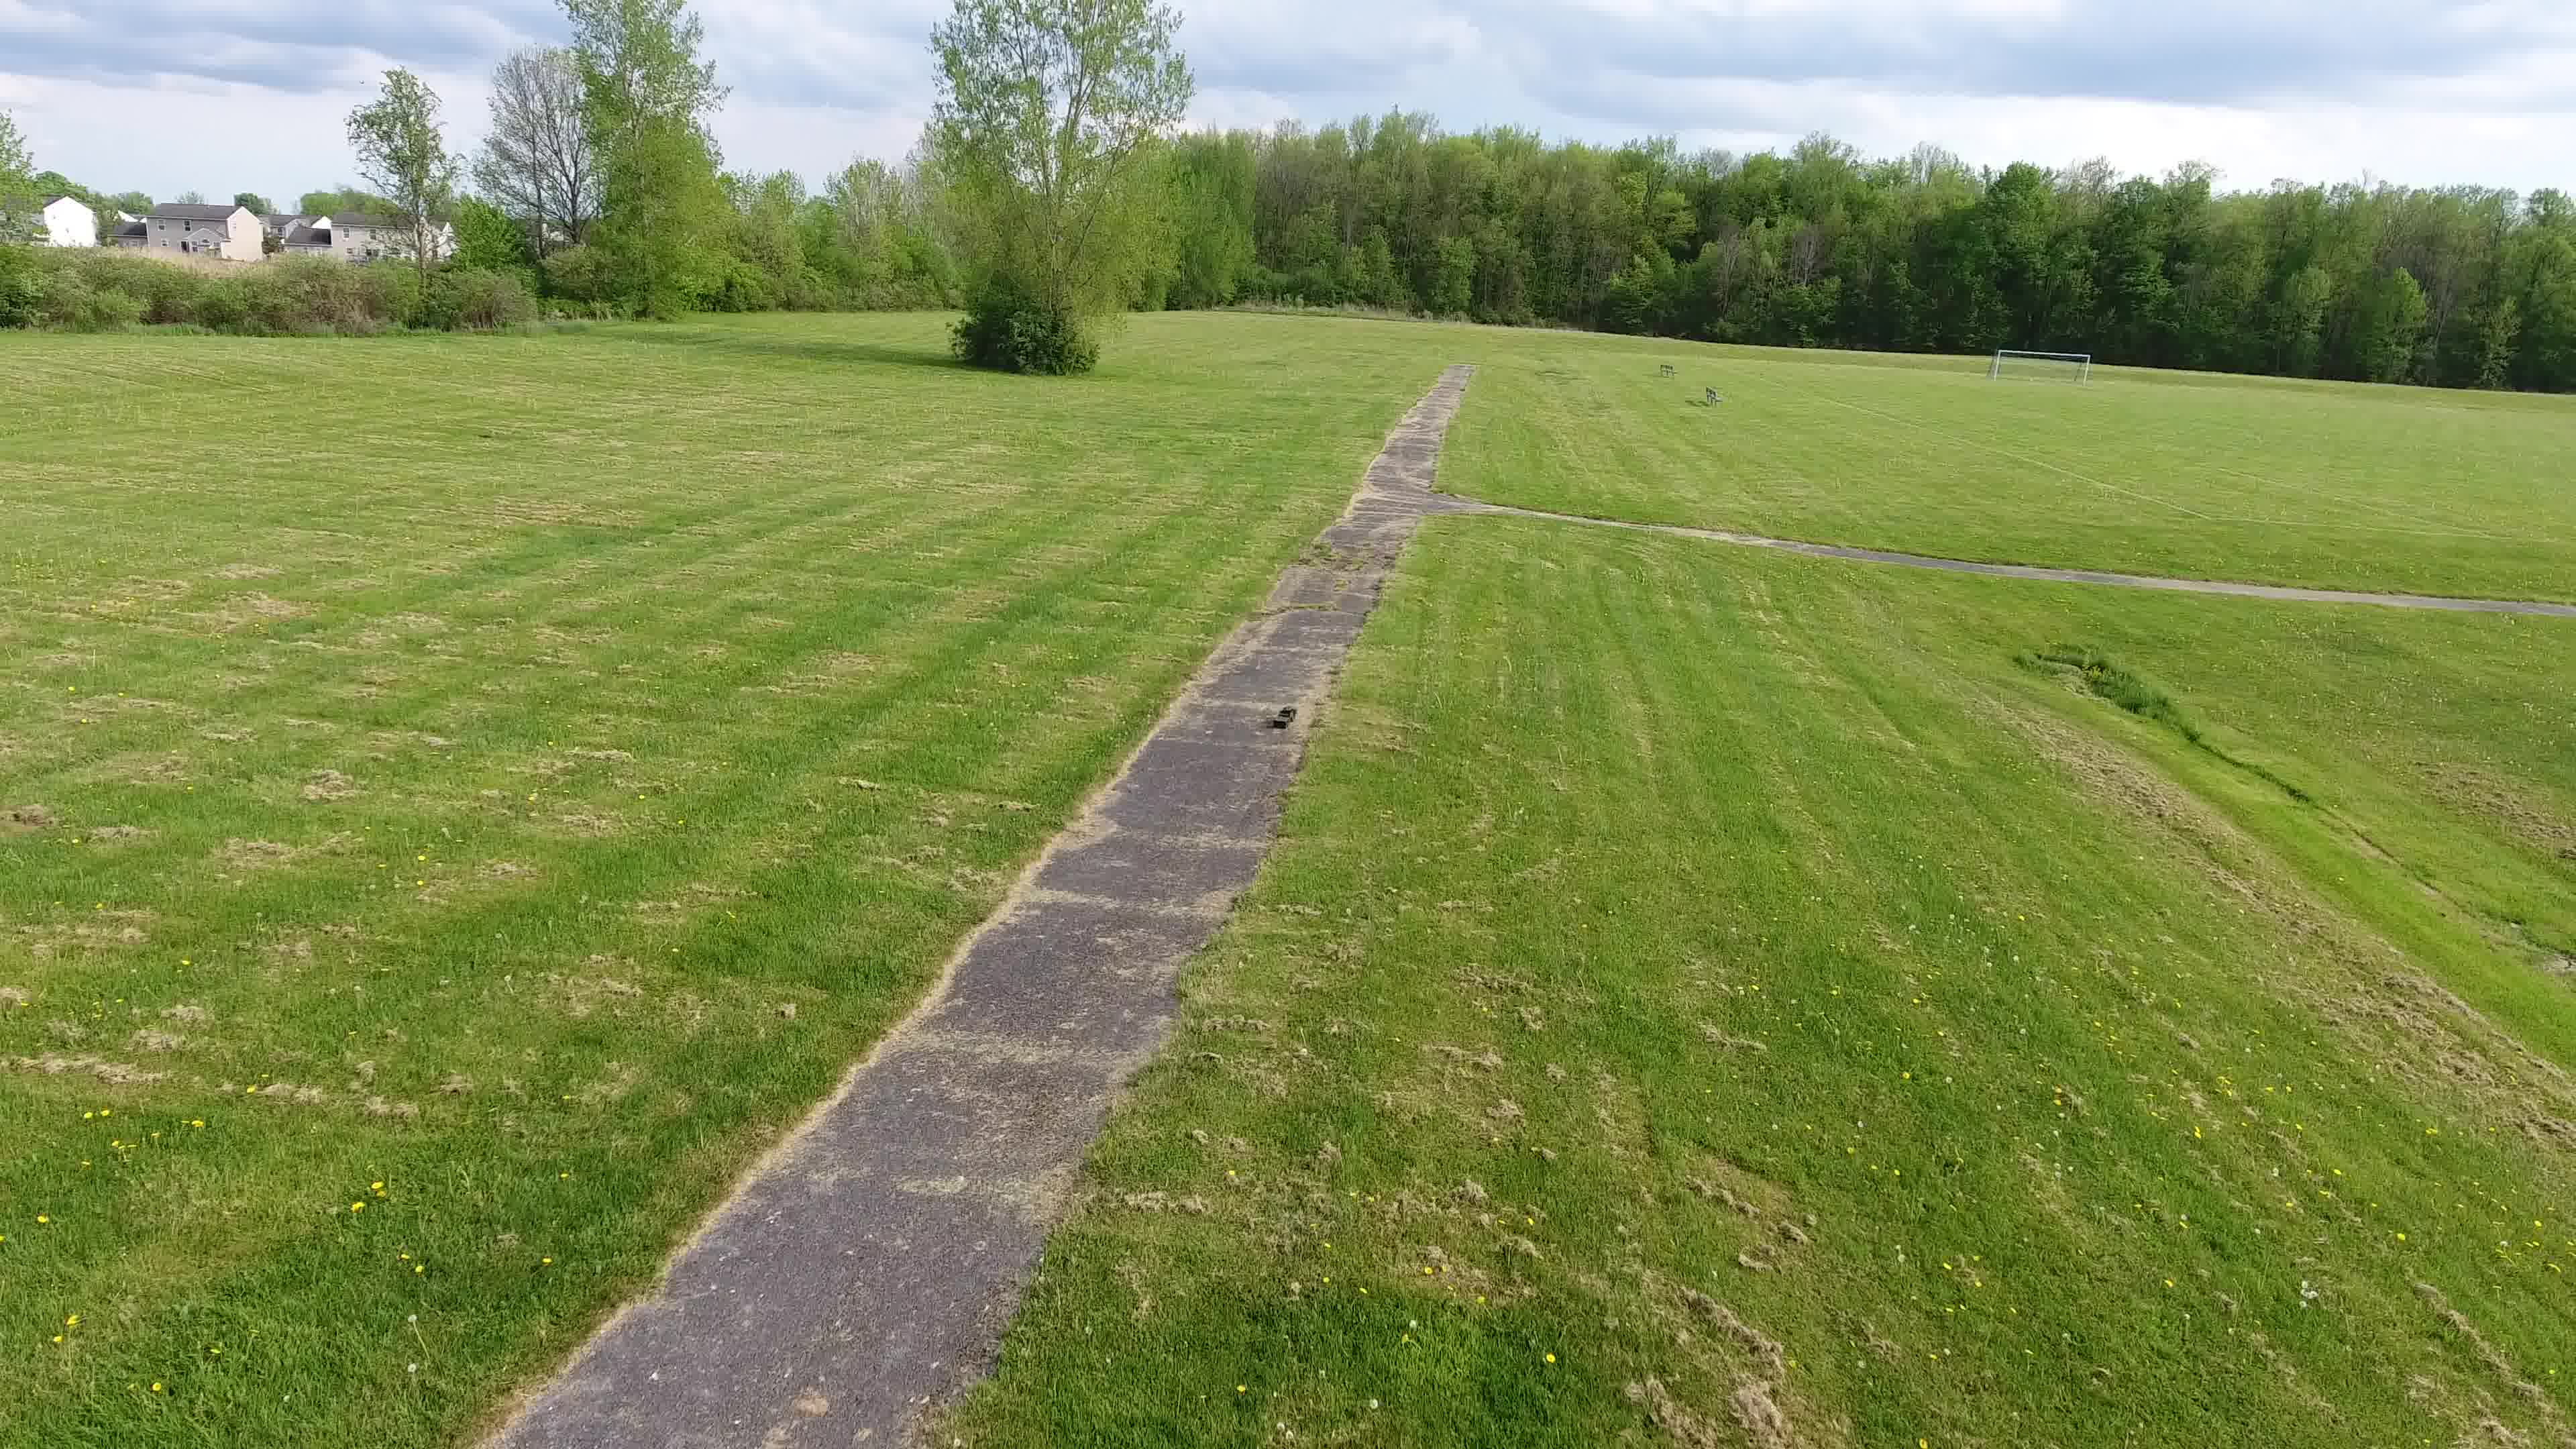transporter9_camo: (1270, 704, 1297, 731)
